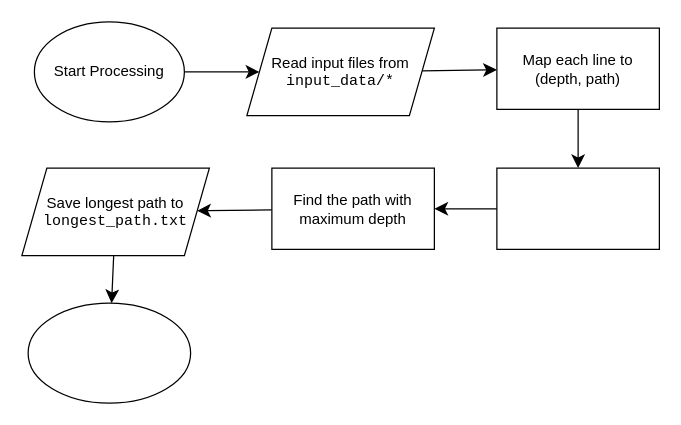
Image size: 681x425. Some labels were removed from this diagram. Here are the shapes that lost their labels. From the top down, the centre of each, then its label:
At point (577, 208): "Group by depth and find longest path".
At point (109, 352): "Processing Complete".
